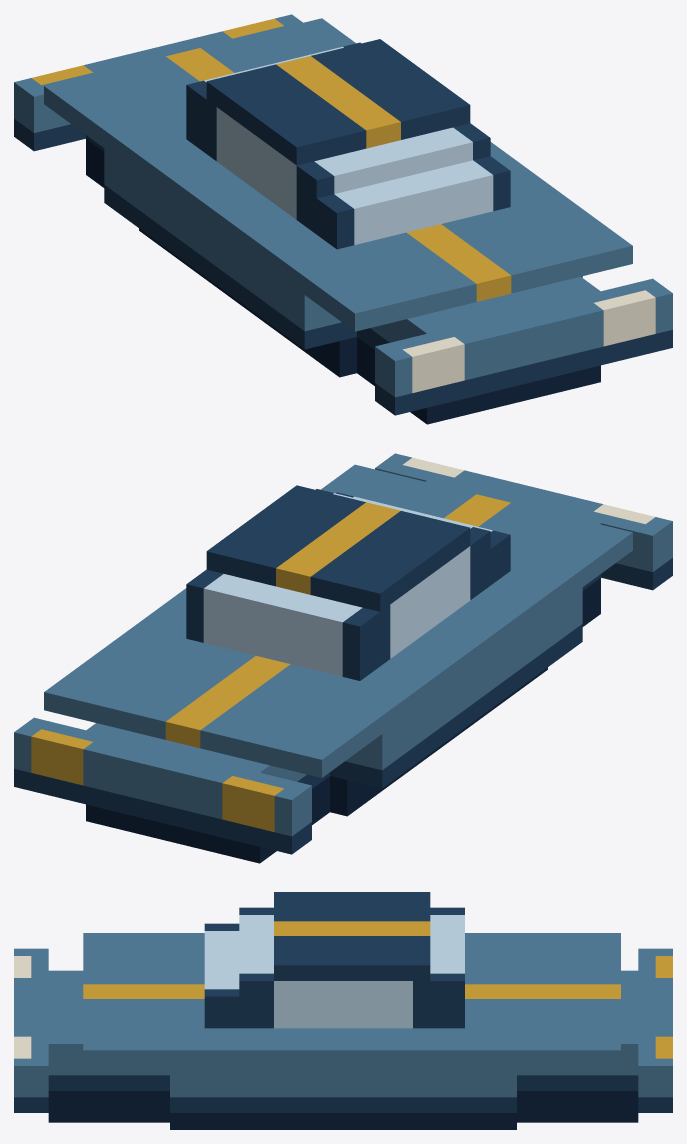
The model's file is comet.obj.
3 renders of one model, top to bottom at view 1: azimuth 30°, elevation 25°; view 2: azimuth 150°, elevation 25°; view 3: azimuth 270°, elevation 25°, orthographic. The views are drawn at different scales.
Size of the model in its own units: 1.6 by 1 by 3.8.
Materials: 1 (1 with a texture image).
